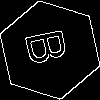B: (24, 25, 78, 67)
